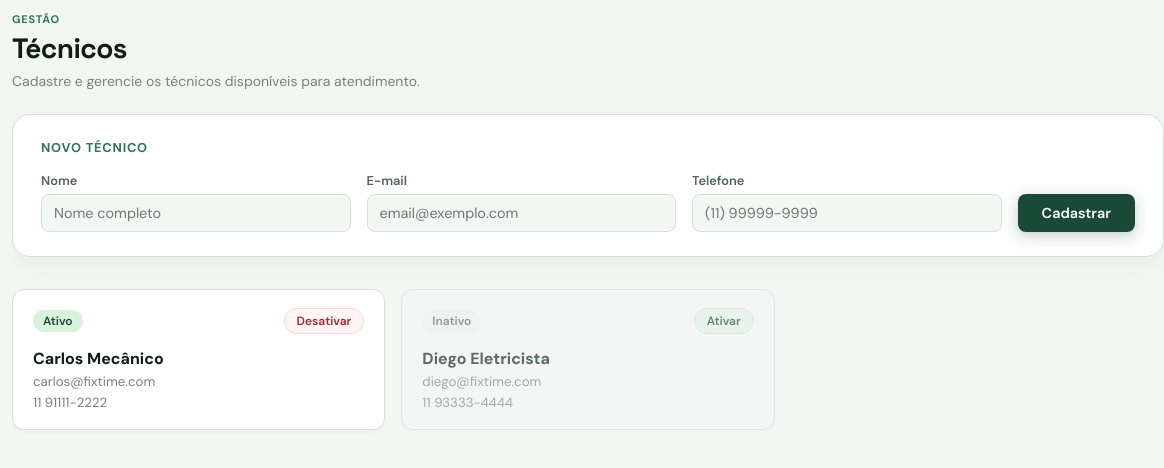
Test case: TechniciansPage › valida campos obrigatórios ao tentar cadastrar
The image size is (1164, 468).
expect the text "Carlos Mecânico" is shown: met, box [33,348,164,369]
Click the button "Cadastrar".
click(1076, 213)  # box [1018,194,1135,232]
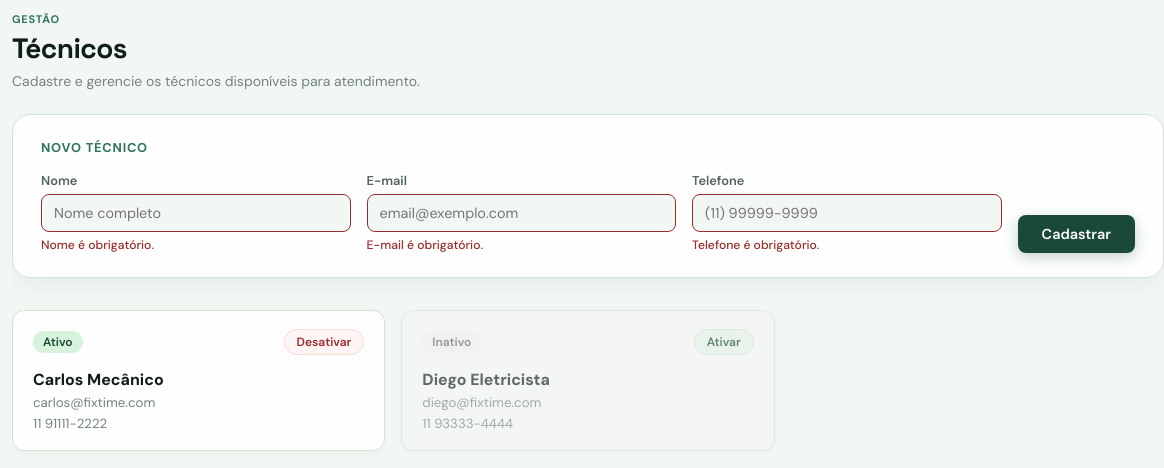
expect the text "Nome é obrigatório." is shown: met, box [41,237,154,253]
